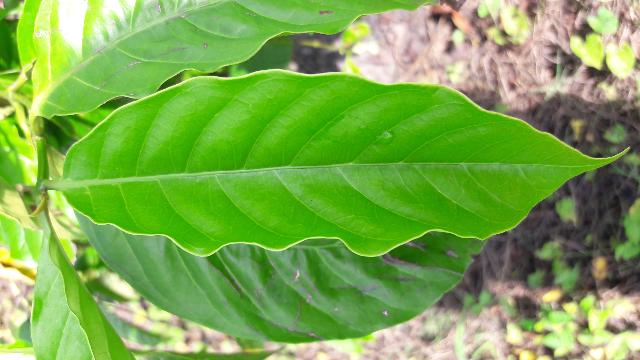healthy: (59, 70, 624, 257)
